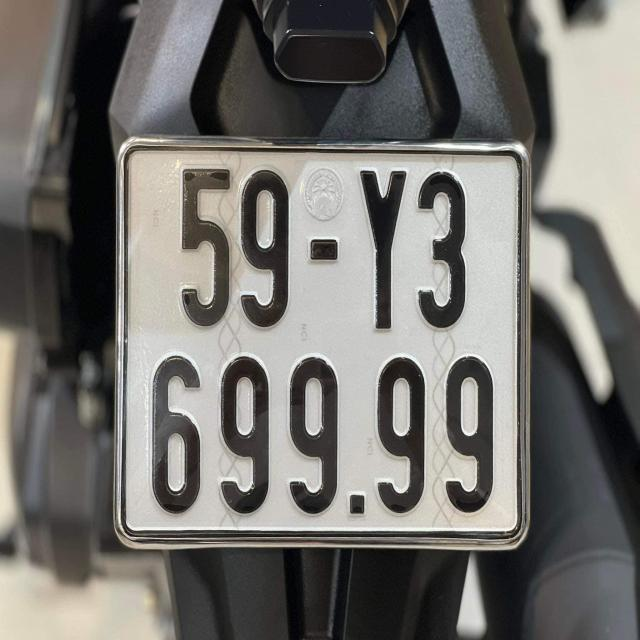3: (412, 166, 473, 332)
4: (445, 554, 494, 640)
5: (172, 162, 234, 330)
6: (143, 349, 204, 516)
9: (440, 348, 501, 516), (214, 350, 274, 516), (283, 350, 341, 516), (371, 350, 428, 516), (236, 164, 292, 330)
Y: (354, 163, 412, 332)
